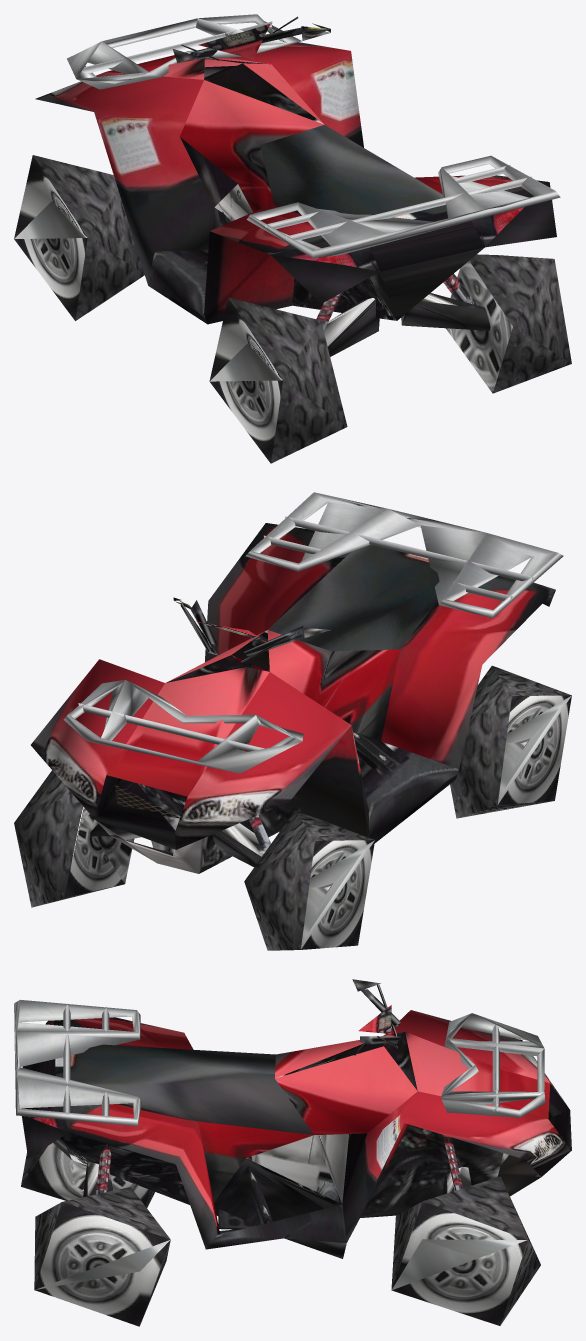
The model's file is ATV0.1.glb.
3 views of the same model, one above another, from view 1: azimuth 30°, elevation 25°; view 2: azimuth 150°, elevation 25°; view 3: azimuth 270°, elevation 25° (orthographic). The views are drawn at different scales.
Parts seen in each view (by area): view 1: ATV; view 2: ATV; view 3: ATV.
Boxes of the visible parts, left/top/right/bottom form: ATV: left=14, top=14, right=571, bottom=463; ATV: left=14, top=492, right=571, bottom=950; ATV: left=14, top=979, right=571, bottom=1326.
Bounding box in the file's own units: 1.43 × 1.3 × 2.59.
Materials: 1 (1 with a texture image).
